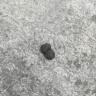Dog: (40, 43, 55, 60)
